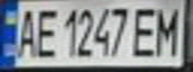1: (57, 3, 78, 59)
2: (75, 3, 96, 57)
4: (93, 2, 115, 57)
7: (109, 2, 133, 57)
A: (12, 4, 39, 58)
E: (130, 2, 163, 57), (30, 3, 60, 60)
M: (151, 2, 184, 57)
